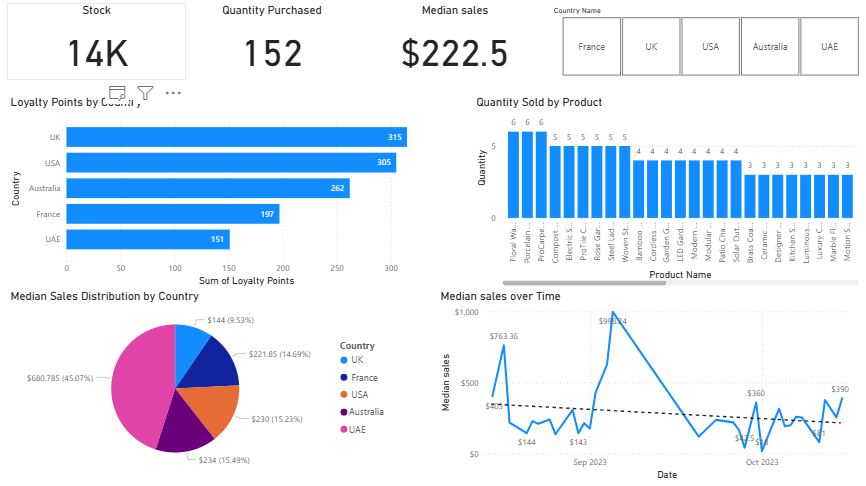

This screenshot's page, from the dashboard's own definition file:
{"tool":"powerbi","page":{"name":"Sales Overview","canvas":[1280,720],"ordinal":0},"visuals":[{"type":"clusteredBarChart","title":"Loyalty Points by Country","fields":{"Y":["Sum(Sales in USD. Loyalty Points)"],"Category":["Countries.Country"]},"box":[10.2,146.3,629.3,283.9],"z":0},{"type":"clusteredColumnChart","title":"Quantity Sold by Product","fields":{"Y":["Sum(Sales in USD.Quantity Purchased)"],"Category":["Sales in USD.Product Name"]},"box":[692.2,146.3,569.3,283.9],"z":1000},{"type":"pieChart","title":"Median Sales Distribution by Country","fields":{"Y":["Sales in USD.Median sales"],"Category":["Countries.Country"]},"box":[10.2,430.2,566.3,272.2],"z":2000},{"type":"lineChart","fields":{"Y":["Sales in USD.Median sales"],"Category":["CalendarTable.Date"]},"box":[639.5,430.2,622,283.9],"z":3000},{"type":"card","fields":{"Values":["Sum(Sales in USD. Stock  )"]},"box":[10.2,11.7,226.8,112.7],"z":4000},{"type":"card","fields":{"Values":["Sum(Sales in USD.Quantity Purchased)"]},"box":[324.9,11.7,251.7,134.6],"z":5000},{"type":"card","fields":{"Values":["Sales in USD.Median sales"]},"box":[576.6,0,225.4,146.3],"z":6000},{"type":"slicer","fields":{"Values":["Sales in USD.Country Name"]},"box":[825.4,11.7,455.1,112.7],"z":7000}]}

Visuals, with their boxes in screenshot pixels (x1, y1, x2, y2), scaled from the page's 1280x720 canvas onto the 866x486 screenshot:
"Loyalty Points by Country" clusteredBarChart: detection(7, 99, 433, 290)
"Quantity Sold by Product" clusteredColumnChart: detection(468, 99, 853, 290)
"Median Sales Distribution by Country" pieChart: detection(7, 290, 390, 474)
lineChart - Sales in USD.Median sales x CalendarTable.Date: detection(433, 290, 853, 482)
card - Sum(Sales in USD. Stock  ): detection(7, 8, 160, 84)
card - Sum(Sales in USD.Quantity Purchased): detection(220, 8, 390, 99)
card - Sales in USD.Median sales: detection(390, 0, 543, 99)
slicer - Sales in USD.Country Name: detection(558, 8, 865, 84)
